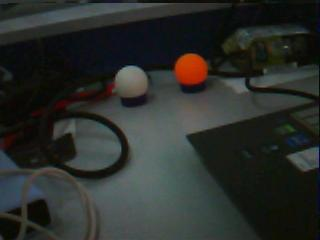oball: (174, 54, 206, 82)
